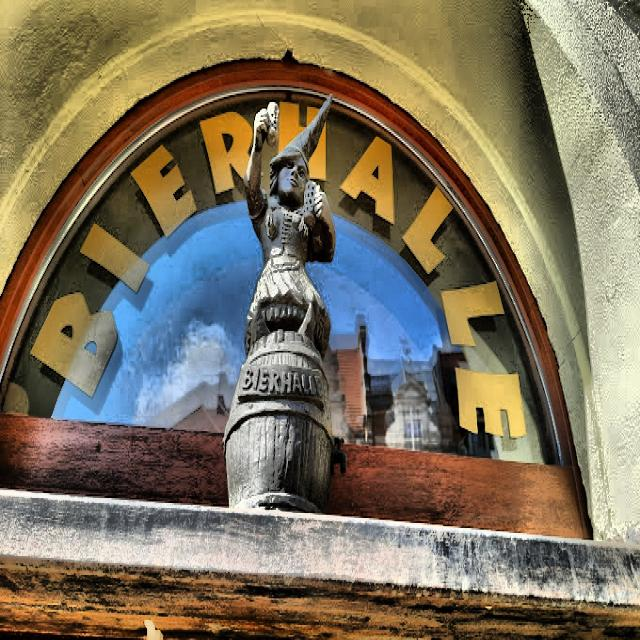Bawarka: (224, 97, 346, 512)
